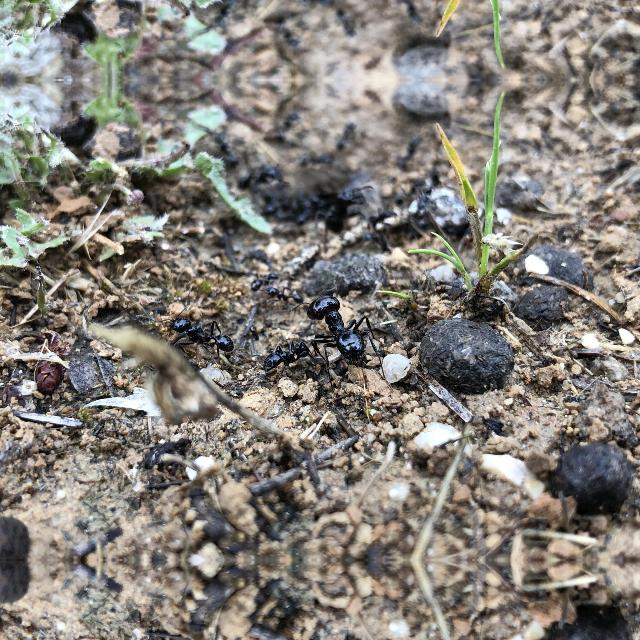Messor: (296, 284, 378, 372), (152, 306, 242, 368), (262, 336, 314, 386), (276, 283, 308, 317), (247, 268, 280, 290)
